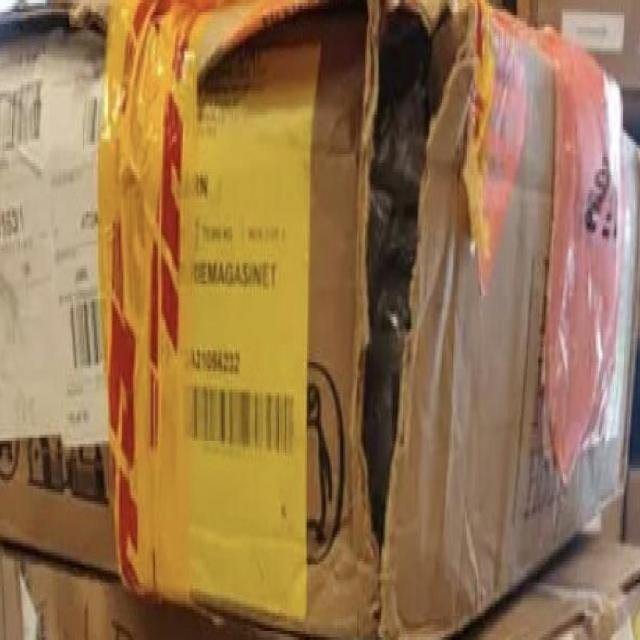damaged: (352, 0, 468, 583)
